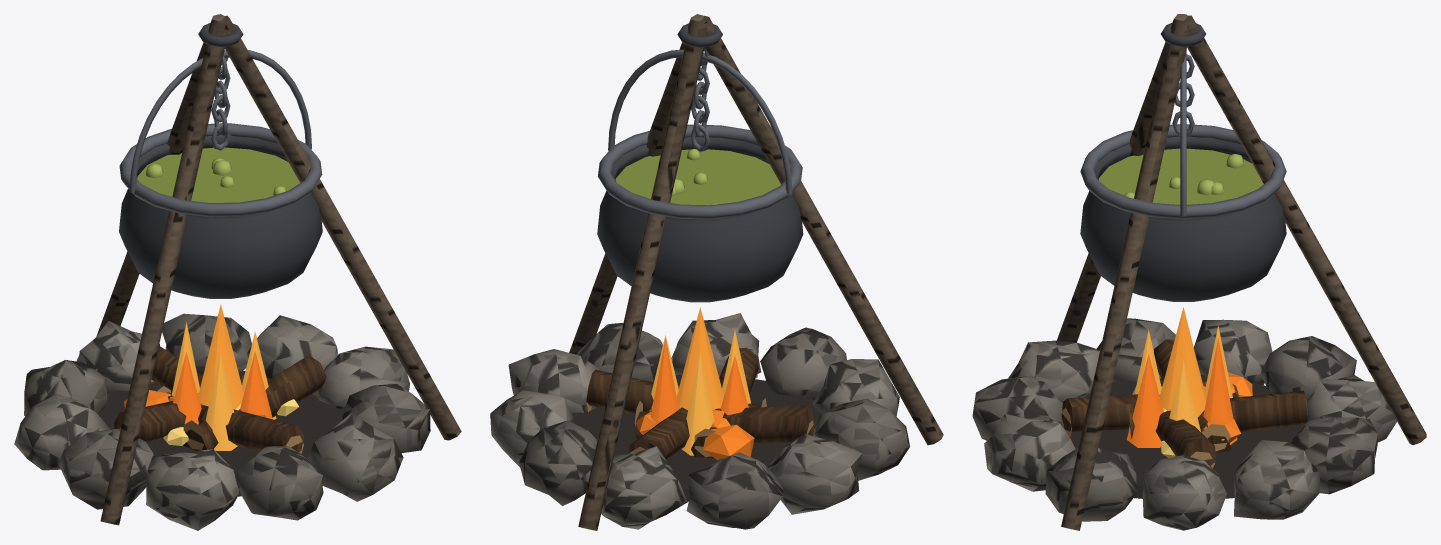
File: kessel.glb
3 renders of one model, left to right at view 1: azimuth 30°, elevation 25°; view 2: azimuth 150°, elevation 25°; view 3: azimuth 270°, elevation 25°, orthographic.
Parts seen in each view (by area): view 1: modell, flammen; view 2: modell, flammen; view 3: modell, flammen.
Boxes of the visible parts, box(x1,y1,x2,y2) form: modell: box(14, 14, 461, 530); flammen: box(171, 304, 276, 450); modell: box(490, 14, 943, 530); flammen: box(650, 307, 750, 455); modell: box(972, 14, 1426, 530); flammen: box(1126, 307, 1237, 447).
Size of the model in its own units: 1.48 by 1.72 by 1.58.
6 materials, 3 textured.
